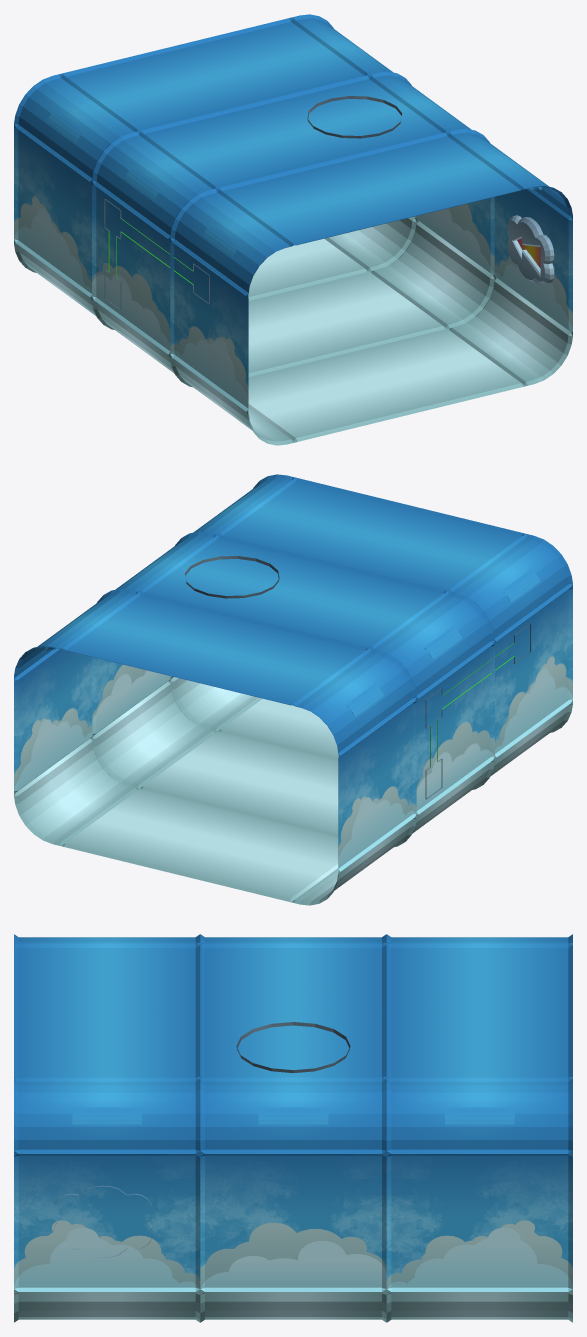
Rendered from Level 3 Room 3 .fbx.
The picture shows the model from 3 angles, top to bottom: view 1: azimuth 30°, elevation 25°; view 2: azimuth 150°, elevation 25°; view 3: azimuth 270°, elevation 25°; orthographic projection. The views are drawn at different scales.
Parts seen in each view (by area): view 1: Level 3 Main Body 2.006, Level 3 Main Body 1.006, Level 3 Main Body 2.007, Level 3 Side Arrow R, Level 3 Pipe 3, Level 3 Wind Turbine; view 2: Level 3 Main Body 2.007, Level 3 Main Body 1.006, Level 3 Main Body 2.006, Level 3 Pipe 3, Level 3 Wind Turbine; view 3: Level 3 Main Body 2.006, Level 3 Main Body 2.007, Level 3 Main Body 1.006, Level 3 Wind Turbine.
Boxes of the visible parts, x1,y1,x2,y2 form: Level 3 Main Body 2.006: (170,128,572,445); Level 3 Main Body 1.006: (92,71,494,376); Level 3 Main Body 2.007: (14,14,416,316); Level 3 Side Arrow R: (507,215,554,284); Level 3 Pipe 3: (104,199,209,309); Level 3 Wind Turbine: (307,96,402,138); Level 3 Main Body 2.007: (14,588,416,905); Level 3 Main Body 1.006: (92,531,494,836); Level 3 Main Body 2.006: (170,474,572,776); Level 3 Pipe 3: (425,623,530,799); Level 3 Wind Turbine: (184,556,279,598); Level 3 Main Body 2.006: (14,934,200,1322); Level 3 Main Body 2.007: (386,934,572,1322); Level 3 Main Body 1.006: (200,934,386,1322); Level 3 Wind Turbine: (236,1022,350,1072).
Size of the model in its own units: 2117 by 1232 by 2646.
